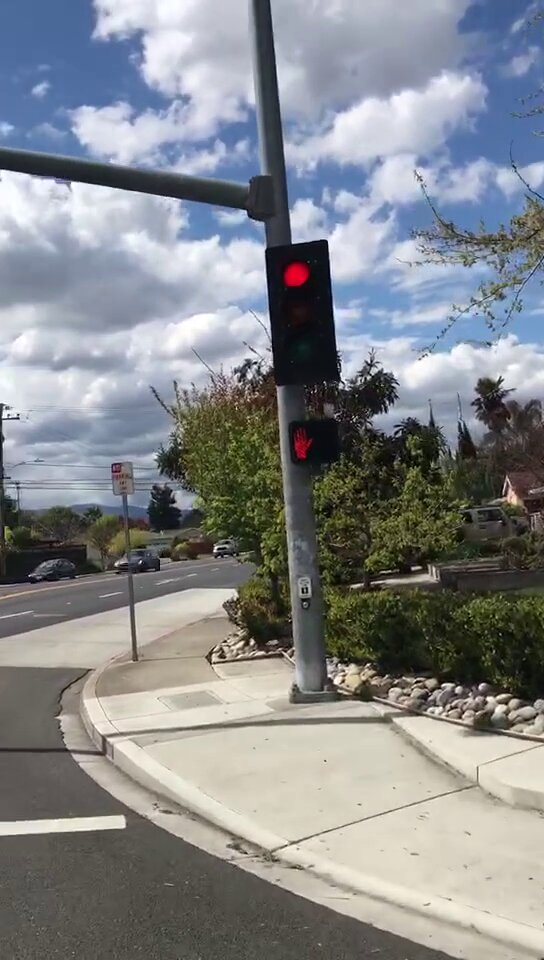red_light: (273, 249, 328, 383)
